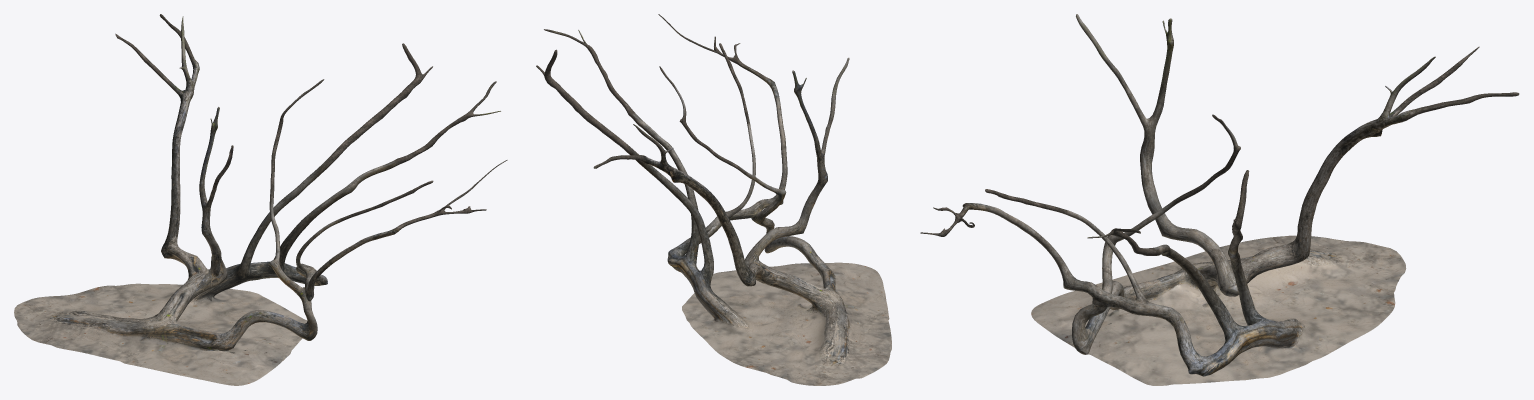
Rendered from island_tree_03_2k.fbx.
3 renders of one model, left to right at view 1: azimuth 30°, elevation 25°; view 2: azimuth 150°, elevation 25°; view 3: azimuth 270°, elevation 25°, orthographic. The views are drawn at different scales.
Parts seen in each view (by area): view 1: island_tree_03; view 2: island_tree_03; view 3: island_tree_03.
Boxes of the visible parts, x1,y1,x2,y2 form: island_tree_03: (14,14,507,385); island_tree_03: (536,14,891,385); island_tree_03: (920,14,1519,385).
Size of the model in its own units: 282 by 156 by 269.
Materials: 1 (1 with a texture image).
